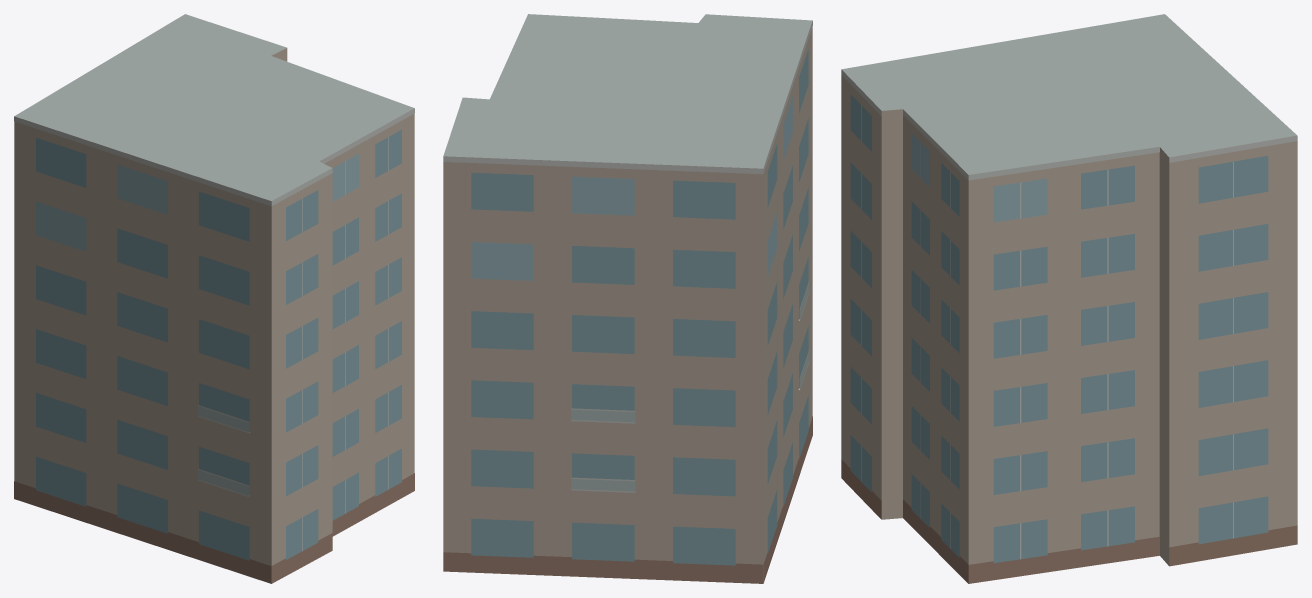
File: survey-upis-32656917.glb
The picture shows the model from 3 angles, left to right: view 1: azimuth 30°, elevation 25°; view 2: azimuth 150°, elevation 25°; view 3: azimuth 270°, elevation 25°; orthographic projection. The views are drawn at different scales.
Visible parts, largest first — view 1: survey-upis-32656917.tmp; view 2: survey-upis-32656917.tmp; view 3: survey-upis-32656917.tmp.
Part boxes in pixels (x1,y1,x2,y2): survey-upis-32656917.tmp: [14, 14, 414, 583]; survey-upis-32656917.tmp: [443, 14, 812, 583]; survey-upis-32656917.tmp: [841, 14, 1297, 583].
Bounding box in the file's own units: 15.46 × 18.3 × 18.51.
